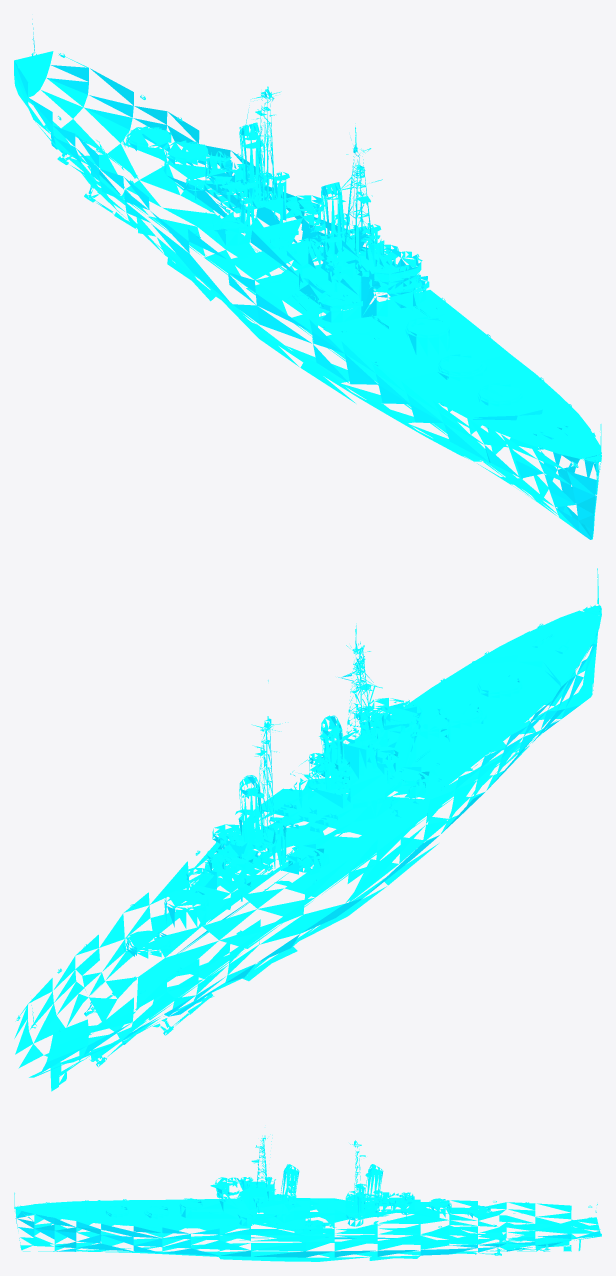
The model's file is Black_Brisbane.glb.
3 renders of one model, top to bottom at view 1: azimuth 30°, elevation 25°; view 2: azimuth 150°, elevation 25°; view 3: azimuth 270°, elevation 25°, orthographic. The views are drawn at different scales.
Bounding box in the file's own units: 1.57 × 3.11 × 12.63.
